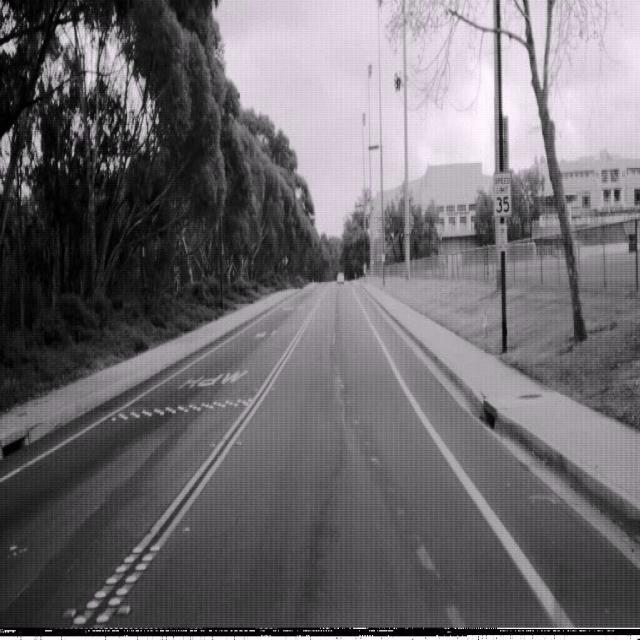speedLimit35: (492, 169, 512, 216)
